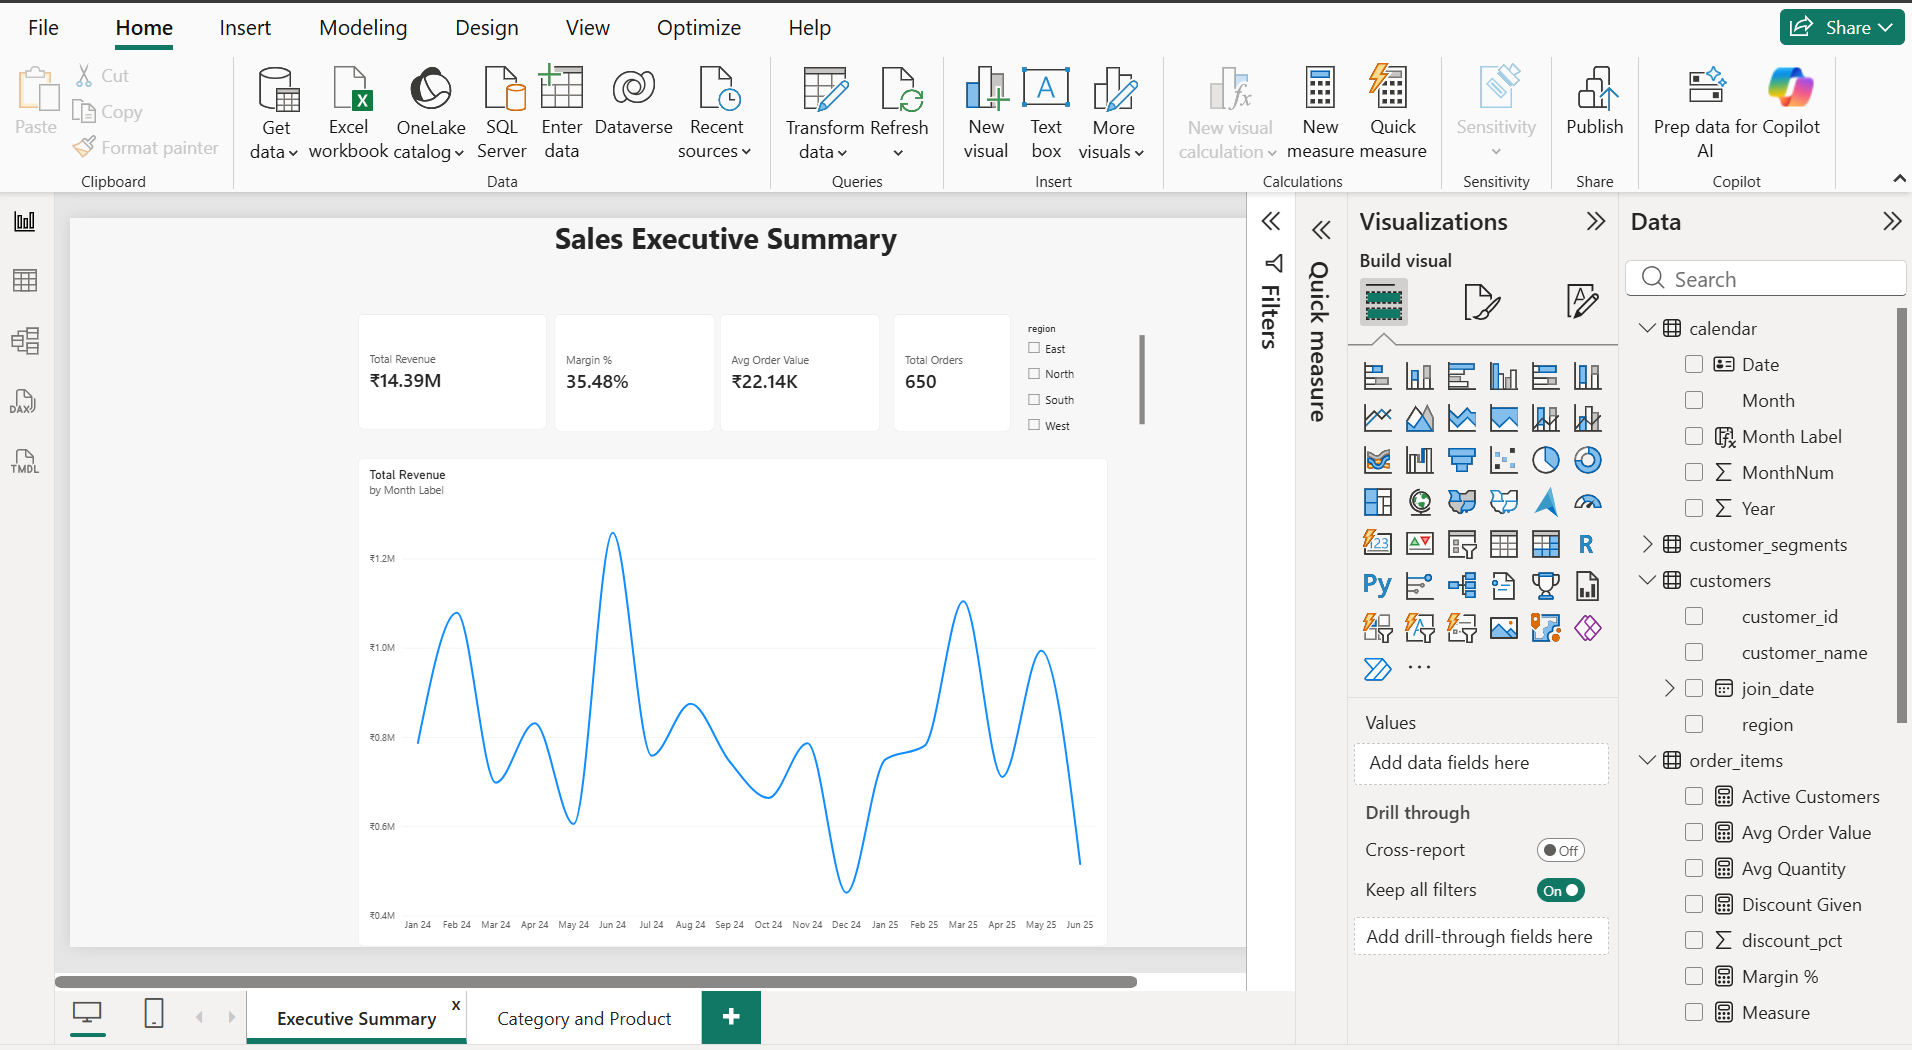

The dashboard page shown, as its layout file describes it:
{"tool":"powerbi","page":{"name":"Executive Summary","canvas":[1920,1080],"ordinal":0},"visuals":[{"type":"cardVisual","fields":{"Data":["order_items.Total Revenue"]},"box":[425.8,142.7,280.6,171.8],"z":0},{"type":"lineChart","fields":{"Category":["calendar.Month Label"],"Y":["order_items.Total Revenue"]},"box":[425.8,355.6,1110.4,723.3],"z":1000},{"type":"cardVisual","fields":{"Data":["order_items.Margin %","order_items.Avg Order Value"]},"box":[718.5,142.7,483.8,174.2],"z":2000},{"type":"cardVisual","fields":{"Data":["order_items.Total Orders"]},"box":[1219.3,142.7,174.2,174.2],"z":3000},{"type":"textbox","box":[706.4,0,549.2,123.4],"z":4000},{"type":"textbox","box":[1761,0,159,174],"z":5000},{"type":"slicer","fields":{"Values":["orders.region"]},"box":[1410.4,154.8,181.4,162.1],"z":6000}]}

Visuals, with their boxes on the page's 1920x1080 design canvas (x1, y1, x2, y2). These are canvas units, not pixel positions in the 1912x1050 screenshot, which may show the page scaled, cropped or inside an application window:
cardVisual - order_items.Total Revenue: (left=426, top=143, right=706, bottom=314)
lineChart - calendar.Month Label x order_items.Total Revenue: (left=426, top=356, right=1536, bottom=1079)
cardVisual - order_items.Margin % x order_items.Avg Order Value: (left=718, top=143, right=1202, bottom=317)
cardVisual - order_items.Total Orders: (left=1219, top=143, right=1394, bottom=317)
textbox: (left=706, top=0, right=1256, bottom=123)
textbox: (left=1761, top=0, right=1920, bottom=174)
slicer - orders.region: (left=1410, top=155, right=1592, bottom=317)
